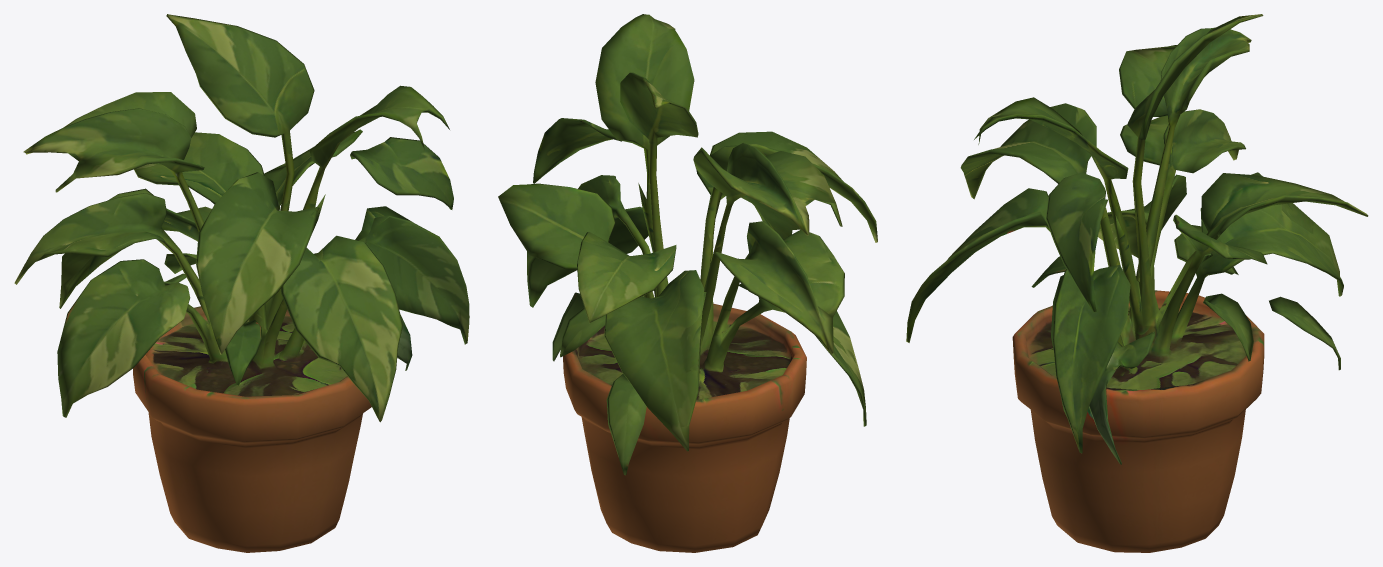
File: potted plant 3d model.glb
The picture shows the model from 3 angles, left to right: view 1: azimuth 30°, elevation 25°; view 2: azimuth 150°, elevation 25°; view 3: azimuth 270°, elevation 25°; orthographic projection. The views are drawn at different scales.
Parts seen in each view (by area): view 1: tripo_node_0acf3ca8; view 2: tripo_node_0acf3ca8; view 3: tripo_node_0acf3ca8.
Part boxes in pixels (x1=…): tripo_node_0acf3ca8: x1=14, y1=14, x2=469, y2=552; tripo_node_0acf3ca8: x1=498, y1=14, x2=877, y2=552; tripo_node_0acf3ca8: x1=906, y1=14, x2=1368, y2=552.
Bounding box in the file's own units: 0.8227 × 0.9709 × 0.8265.
1 material, 1 textured.
